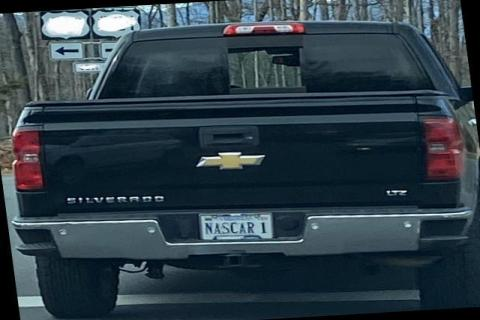LicensePlate: (196, 211, 273, 239)
